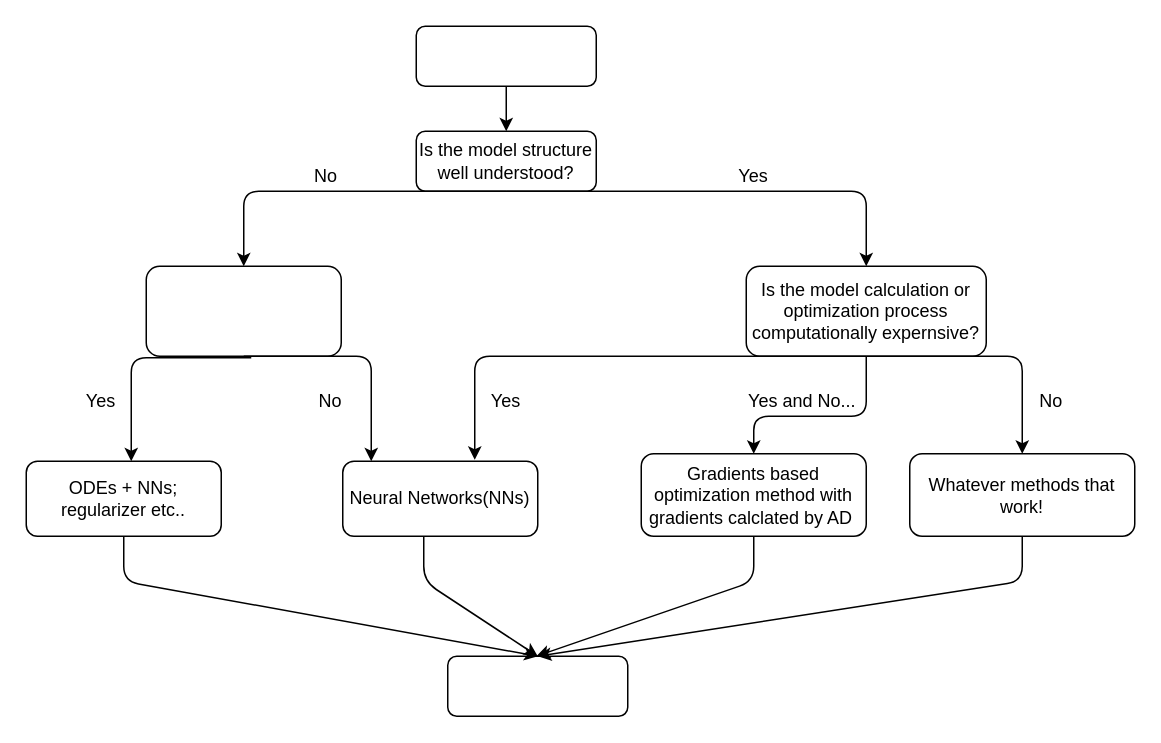
Image size: 1161x743. Some labels were removed from this diagram. Here are the shapes that lost their labels. From the top down, the centre of each, then its label:
At point 505,55: "Environmental Models (ODEs)".
At point 243,310: "Prior knowledge about the model? Or is part of model known?".
At point 537,685: "Target Models".
